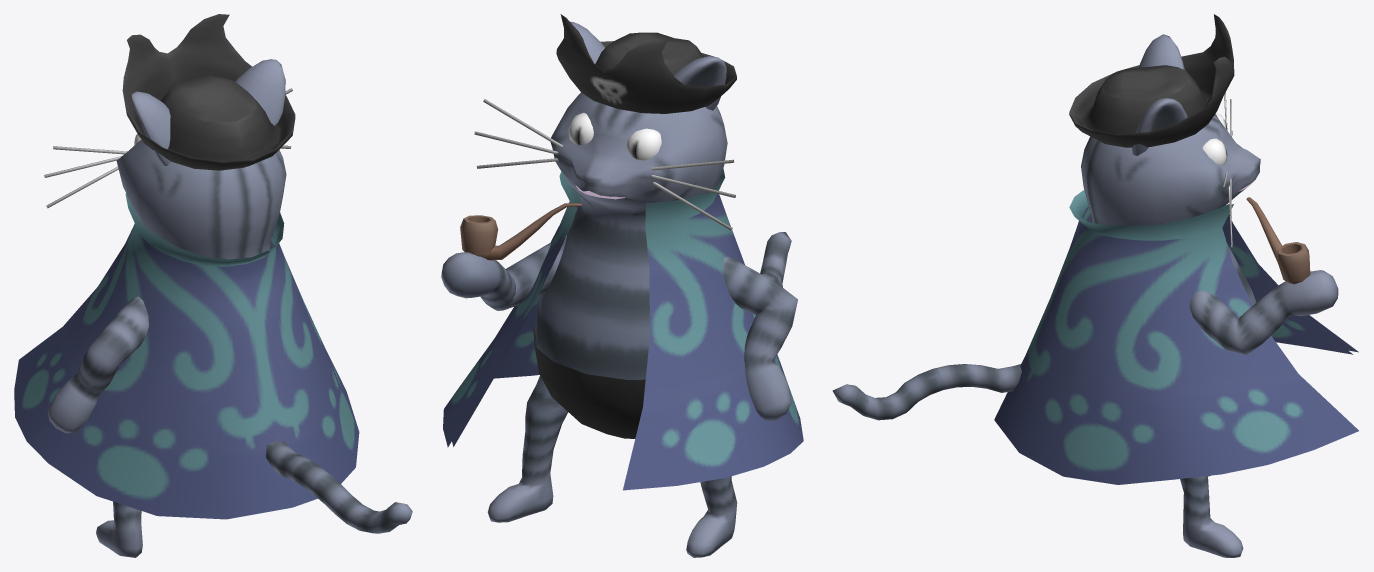
The model's file is neko_idle_a_06.fbx.
3 renders of one model, left to right at view 1: azimuth 30°, elevation 25°; view 2: azimuth 150°, elevation 25°; view 3: azimuth 270°, elevation 25°, orthographic. The views are drawn at different scales.
Visible parts, largest first — view 1: I_a_06; view 2: I_a_06; view 3: I_a_06.
Boxes of the visible parts, left/top/right/bottom form: I_a_06: left=14, top=14, right=412, bottom=557; I_a_06: left=441, top=14, right=803, bottom=557; I_a_06: left=832, top=14, right=1358, bottom=557.
Size of the model in its own units: 1.22 by 1.93 by 1.95.
1 material, 1 textured.
